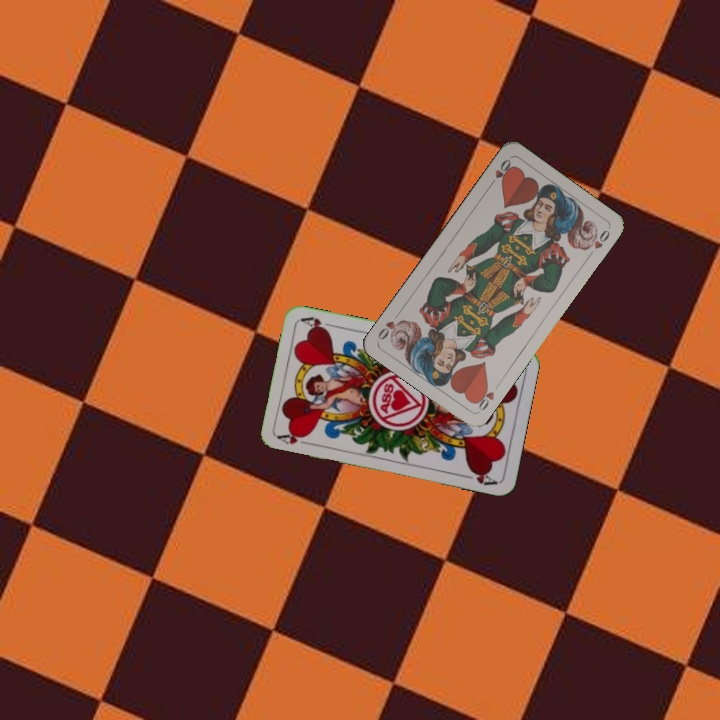HA: (275, 430, 315, 448)
HO: (485, 155, 515, 190), (470, 381, 497, 415)
